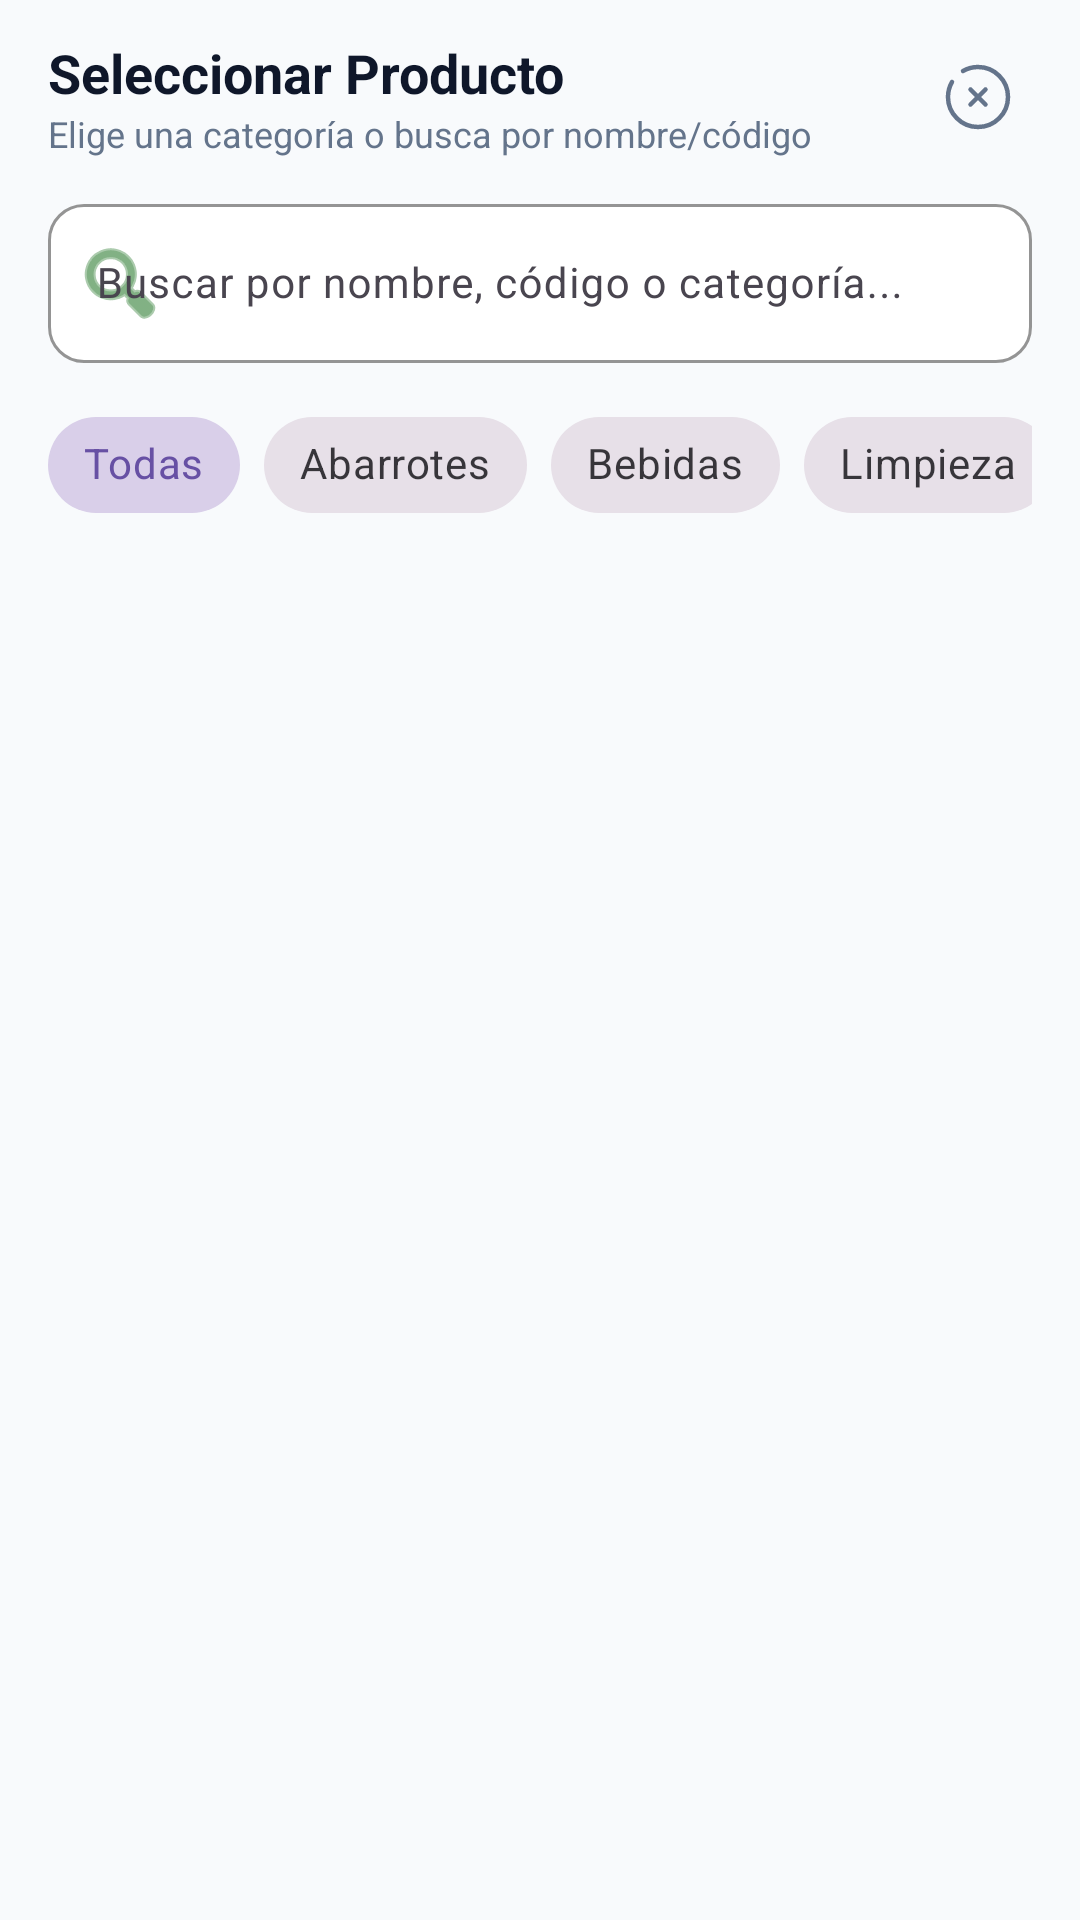

Named icons in this screenshot (1080 × 1920) and their centers, (x,y):
close: (978,97)
